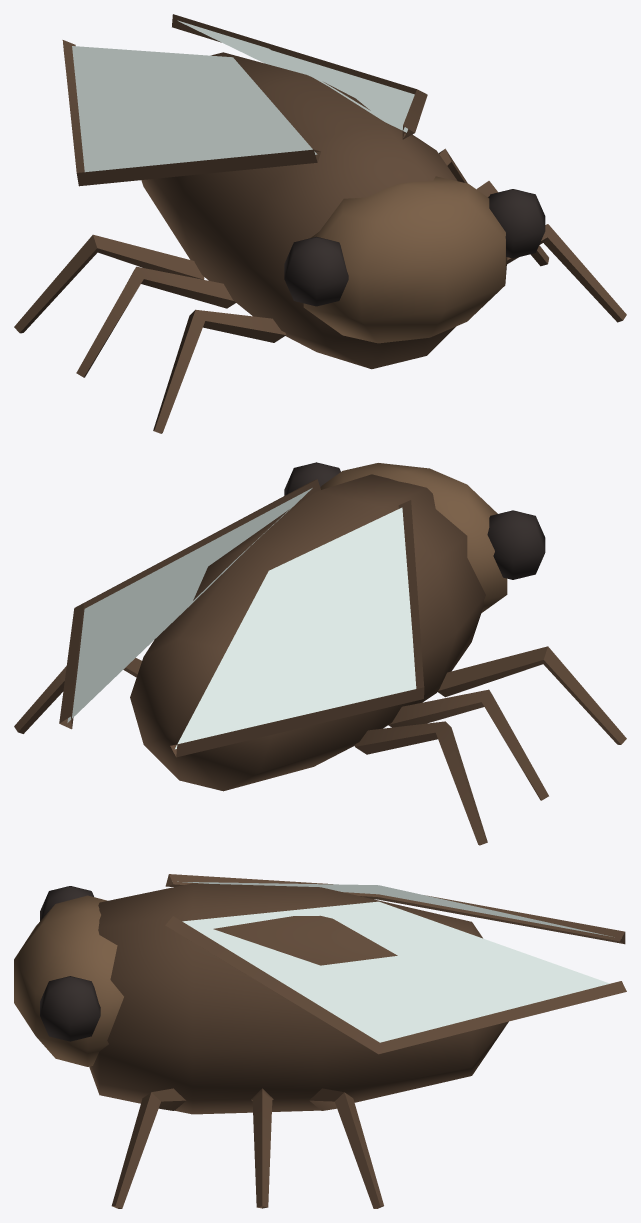
File: brown-cicada.glb
3 renders of one model, top to bottom at view 1: azimuth 30°, elevation 25°; view 2: azimuth 150°, elevation 25°; view 3: azimuth 270°, elevation 25°, orthographic. The views are drawn at different scales.
Parts seen in each view (by area): view 1: brown-cicada; view 2: brown-cicada; view 3: brown-cicada.
Boxes of the visible parts, x1,y1,x2,y2 form: brown-cicada: (14,14,626,433); brown-cicada: (14,462,626,845); brown-cicada: (14,874,626,1208).
Size of the model in its own units: 2.65 by 1.2 by 3.16.
